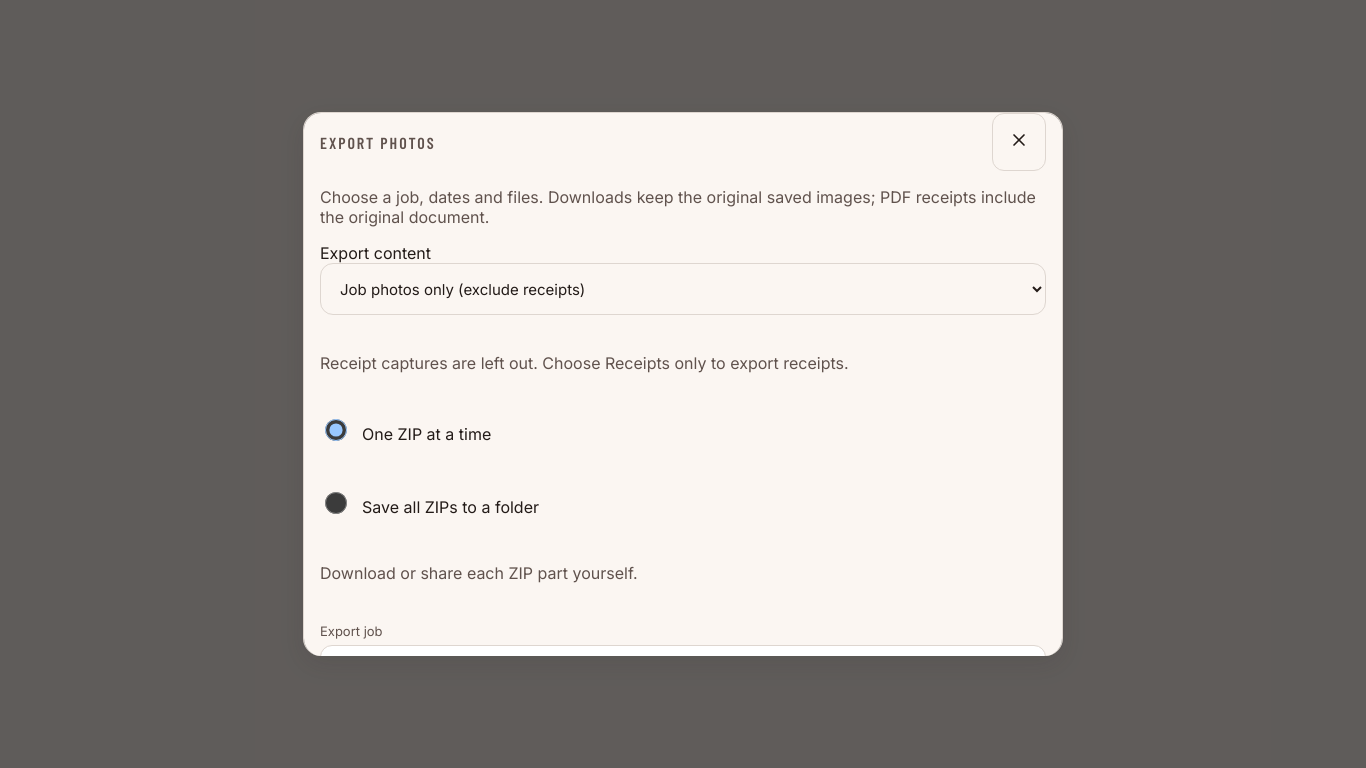
Test: manual fallback then folder saving counts and labels each delivery separately
Step 1. Click the radio button labelled "Save all ZIPs to a folder" → (336, 503), box [325,477,347,529]
(page scrolled)
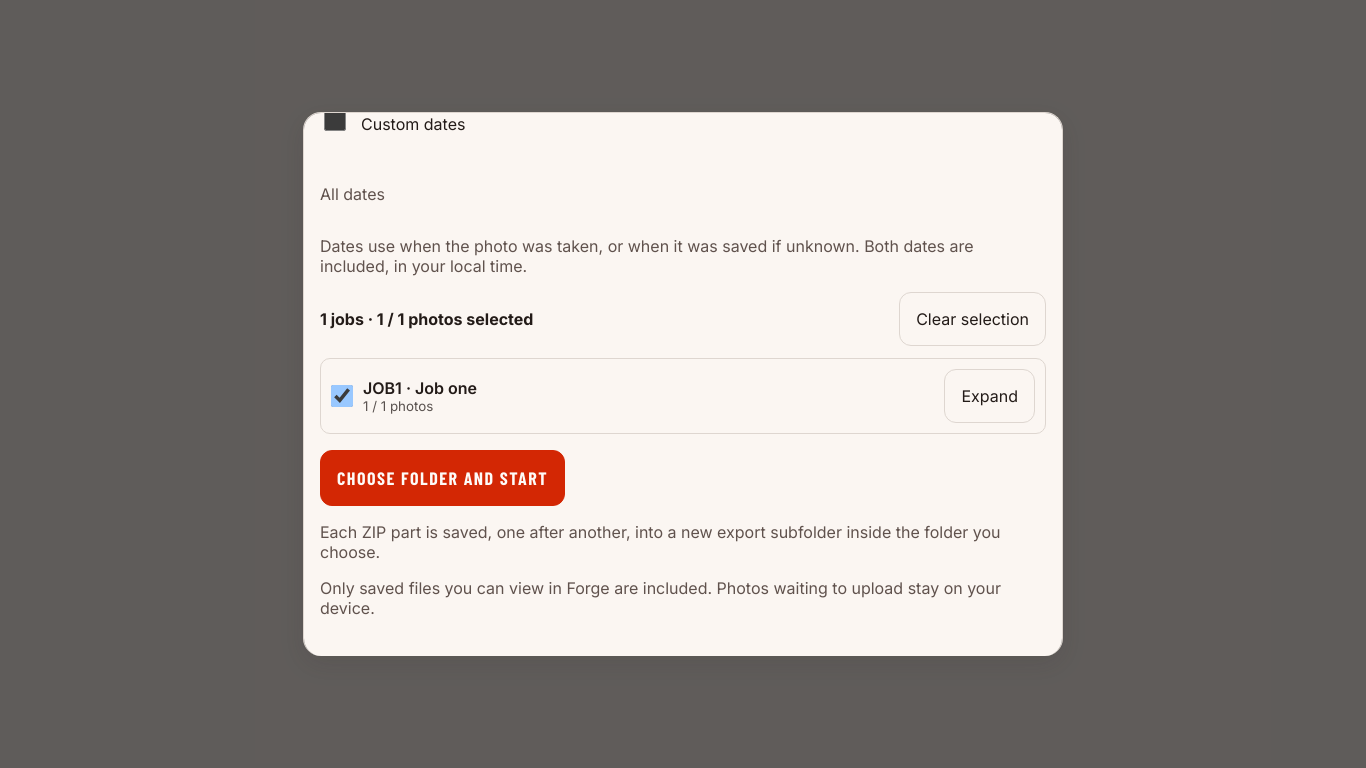
Step 2. Click the button "Choose folder and start" → (443, 478), box [320,450,565,506]
(page scrolled)
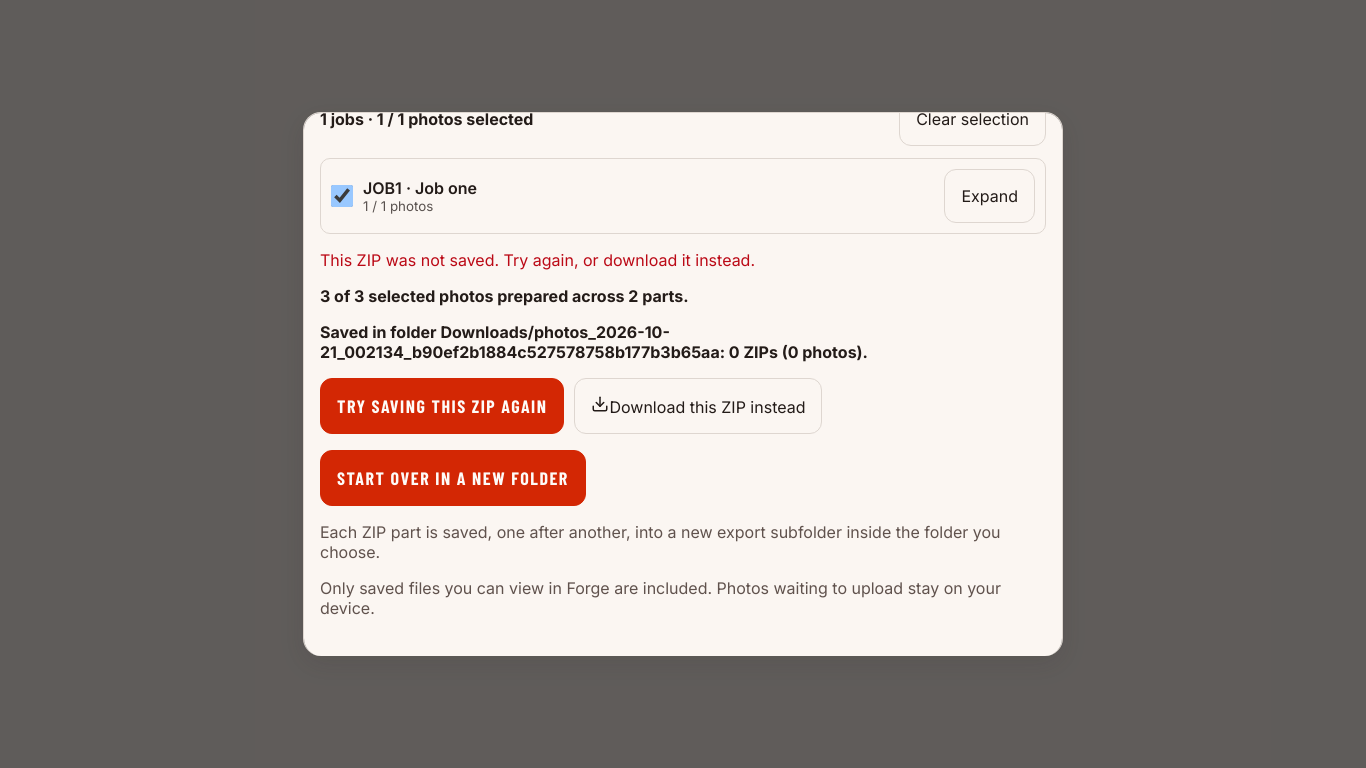
Step 3. Click the button "Download this ZIP instead" → (698, 406), box [574,378,822,434]
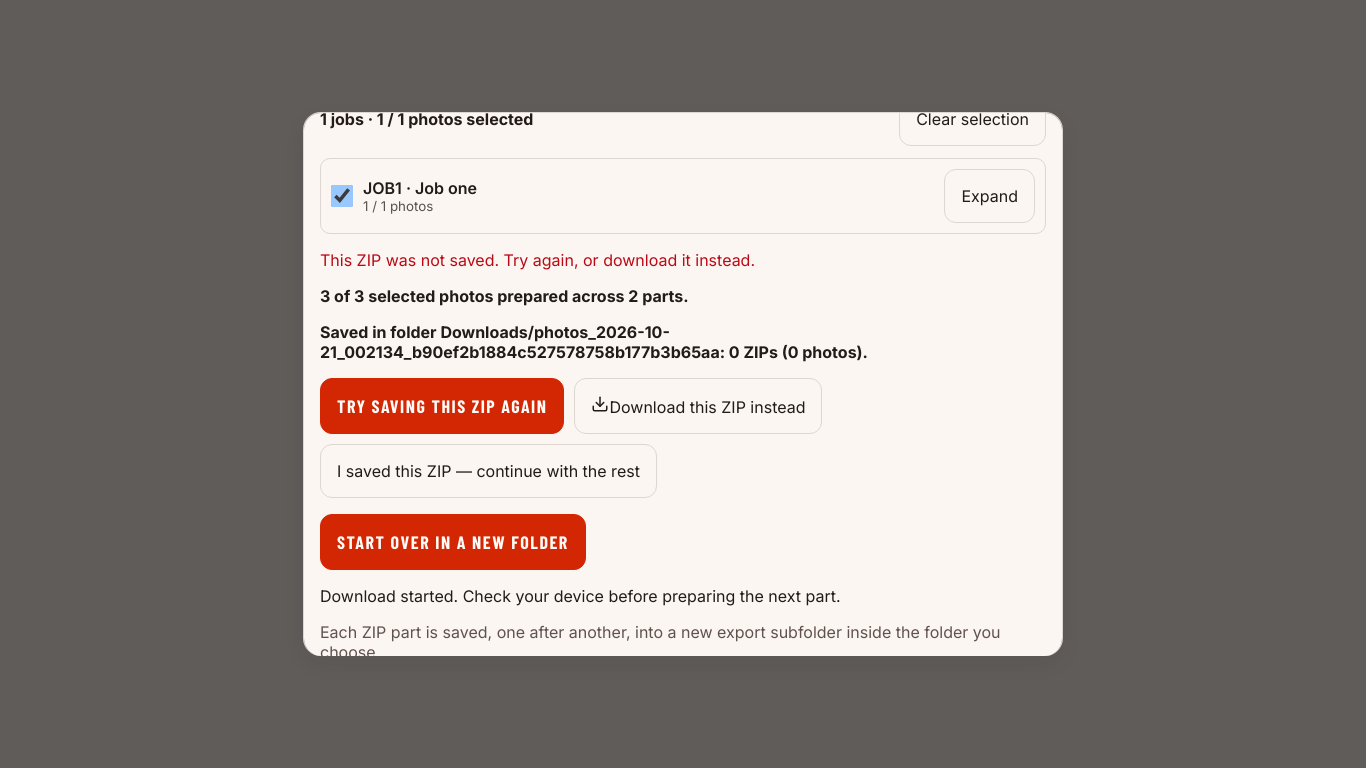
Step 4. Click the button "I saved this ZIP — continue with the rest" → (488, 471), box [320,444,657,498]
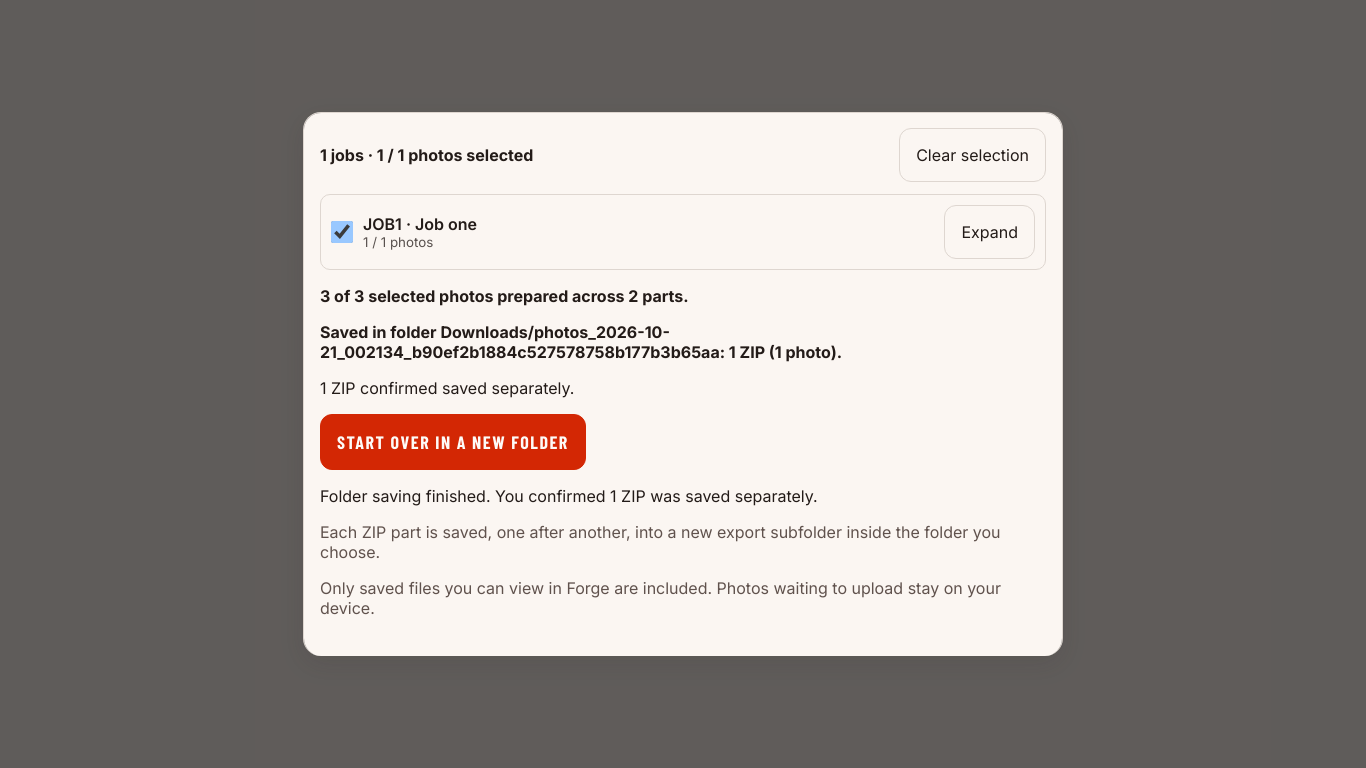
expect the text "1 ZIP (1 photo)" is shown: met, box [320,322,842,362]
expect the text "You confirmed 1 ZIP was saved separately." is shown: met, box [320,486,818,506]
